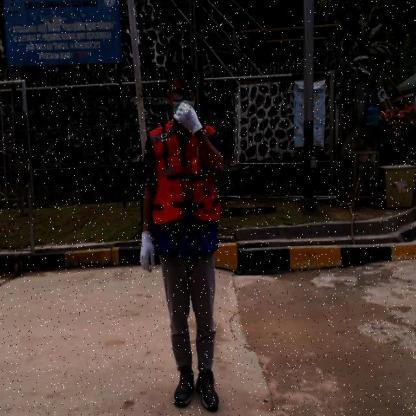boots: (194, 368, 220, 413), (173, 365, 195, 412)
gloves: (172, 100, 203, 138), (139, 230, 156, 274)
goggles: (172, 89, 196, 101)
mask: (172, 102, 194, 114)
vest: (152, 157, 223, 227)
